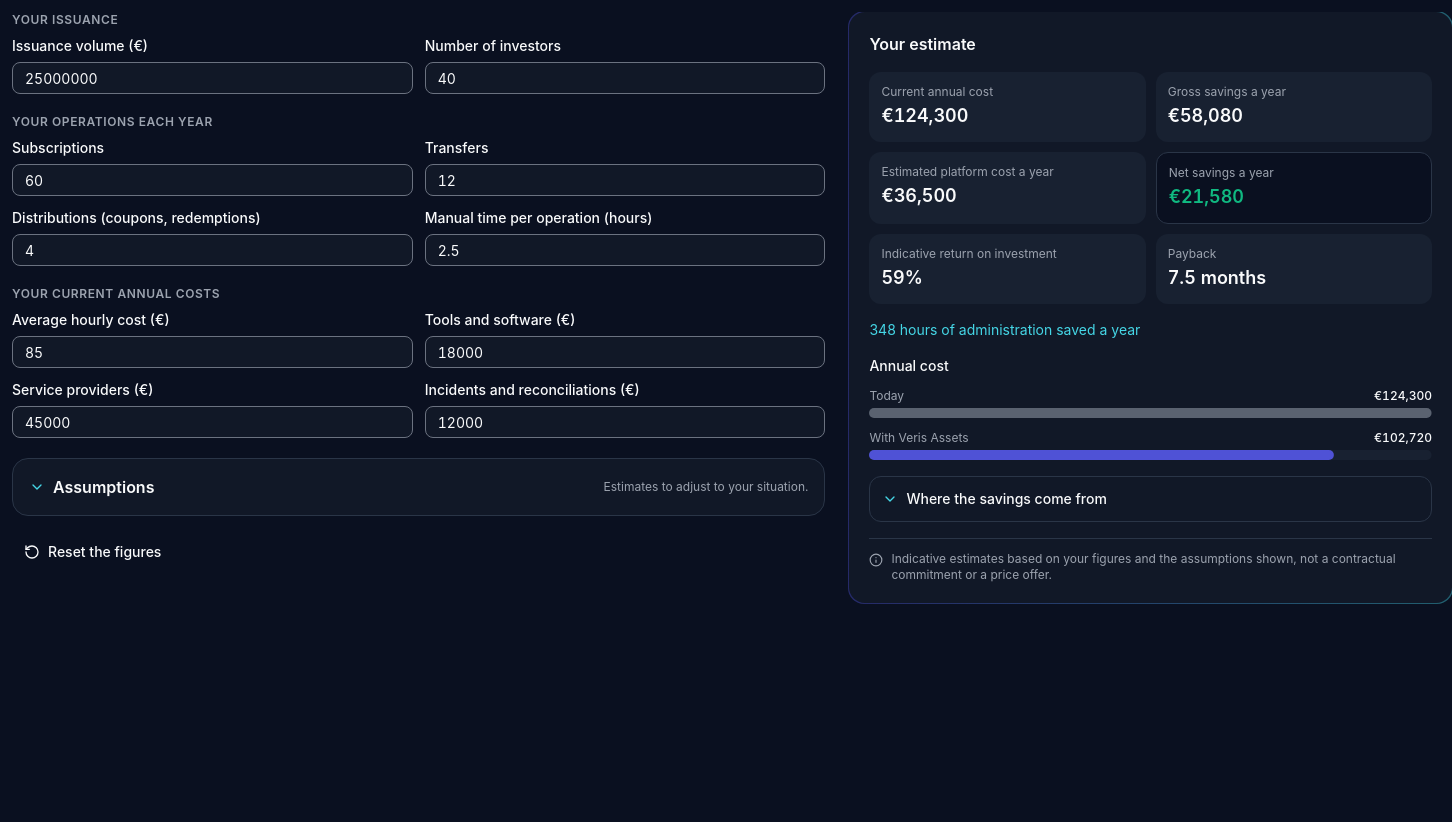
Test: business case calculator (page) › shows the estimate of the default figures, and updates it as the visitor types
The width and height of the screenshot is (1452, 822).
Expected: the text "€124,300" next to "€58,080" is shown, x1=881 y1=105 x2=968 y2=126
Expected: the text "€21,580" is shown, x1=1169 y1=186 x2=1244 y2=207
Step 1. Replace the text in the field labelled "Number of investors" with "80" → [625, 78], box x1=425 y1=62 x2=825 y2=94
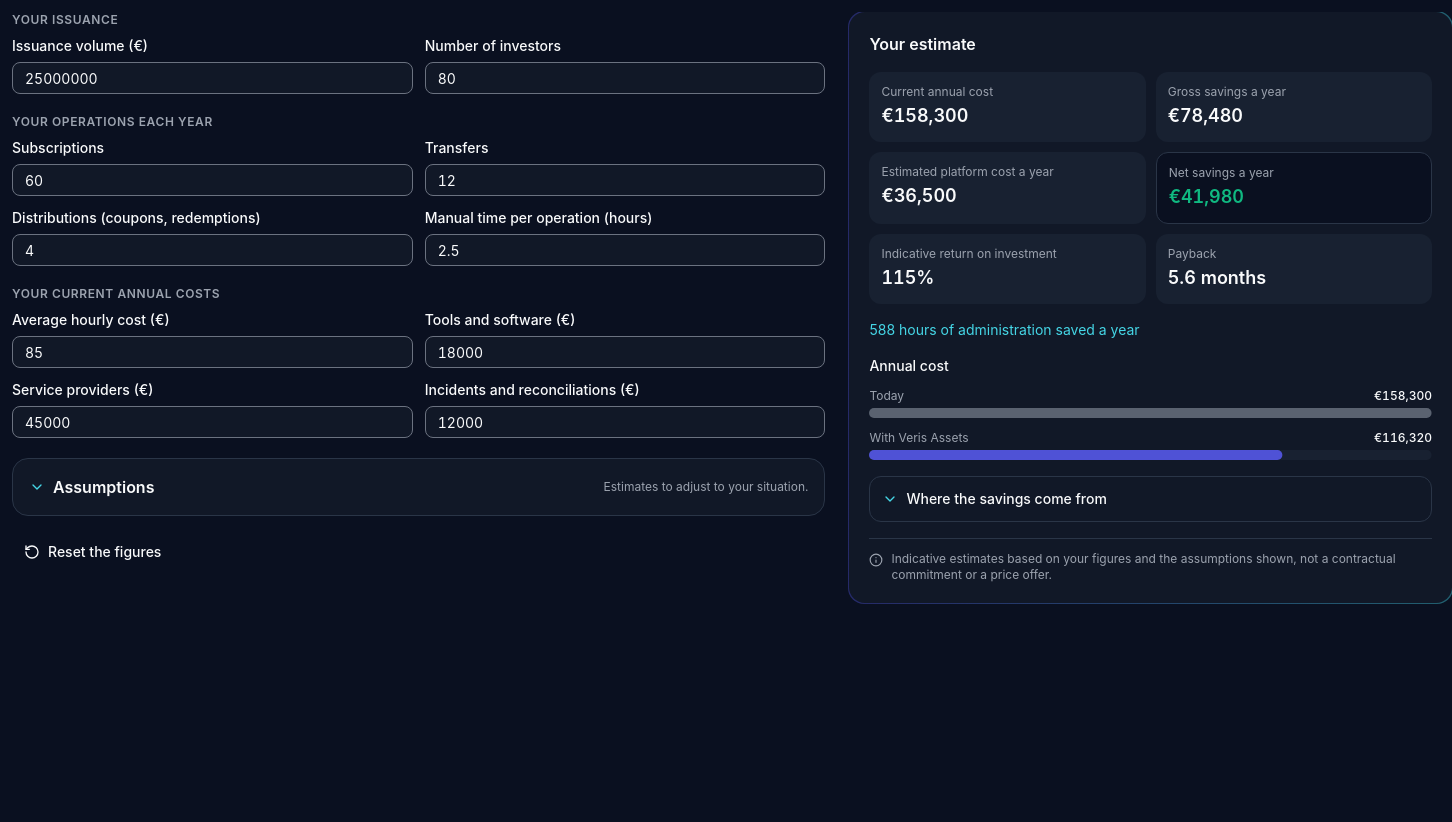
Now the text "€158,300" next to "€78,480" is shown, box x1=881 y1=105 x2=968 y2=126
